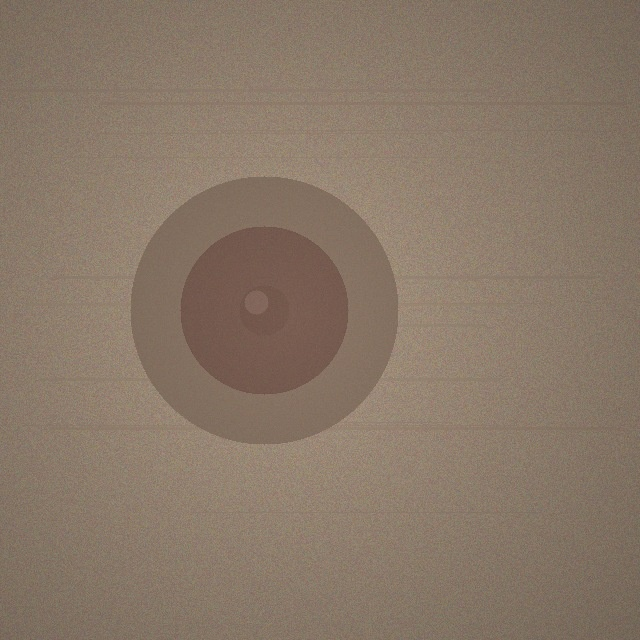good: (130, 176, 398, 444)
